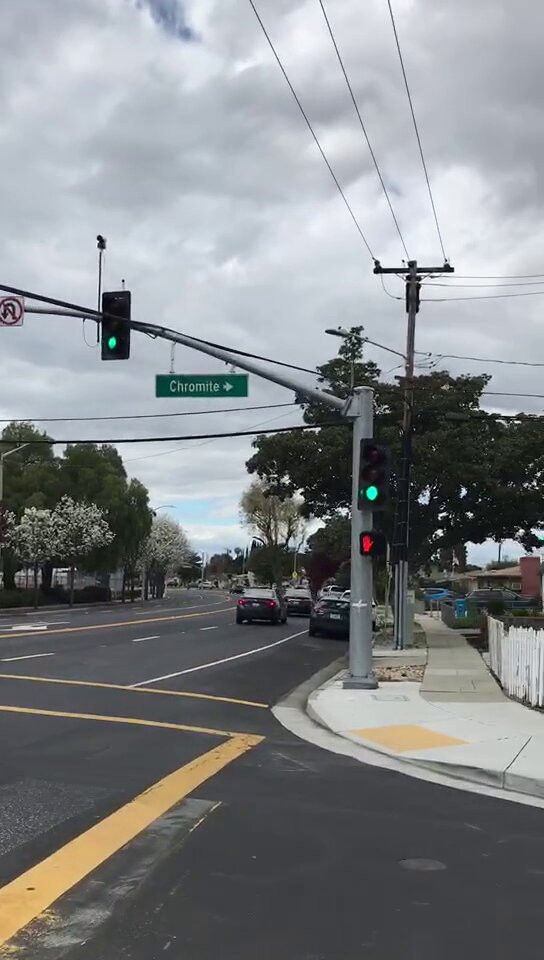green_light: (361, 440, 388, 513), (103, 294, 129, 360)
